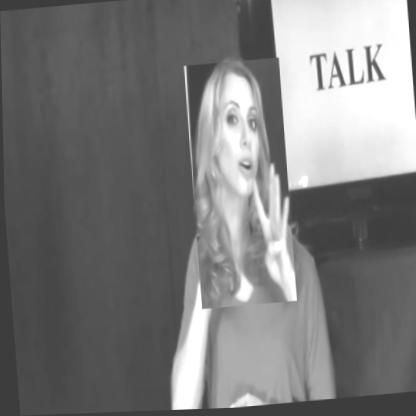Talk: (183, 59, 295, 311)
